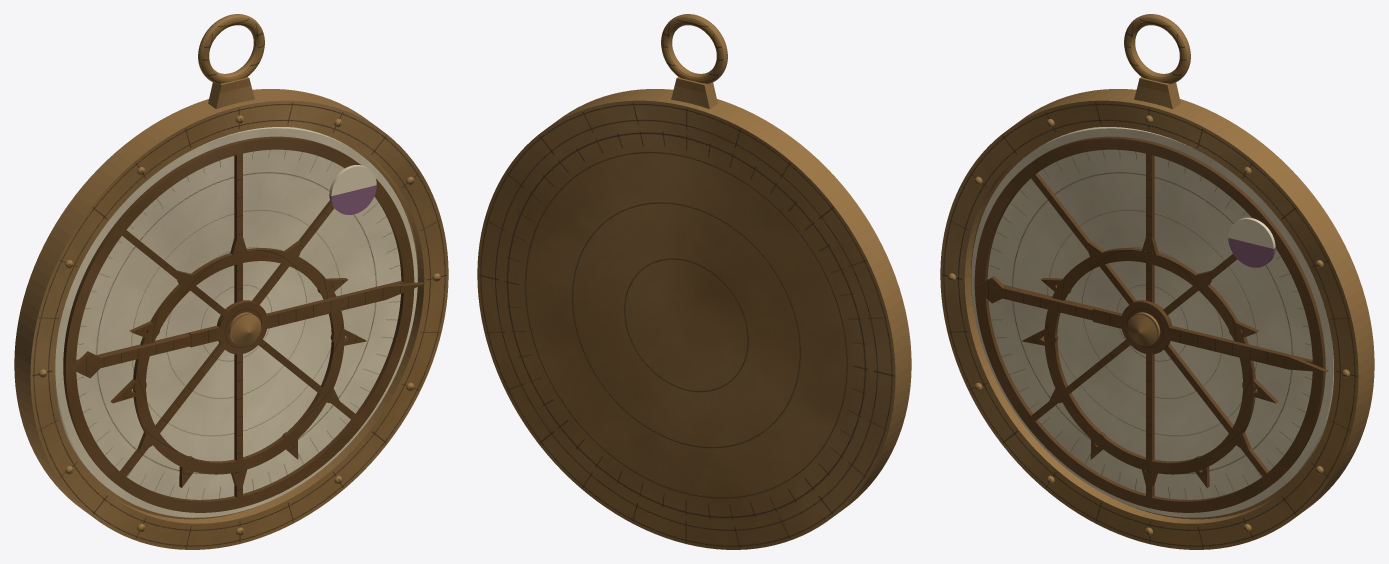
Rendered from astrolabe-main-v1.glb.
3 renders of one model, left to right at view 1: azimuth 30°, elevation 25°; view 2: azimuth 150°, elevation 25°; view 3: azimuth 330°, elevation 25°, orthographic.
Parts seen in each view (by area): view 1: calendar_disc, outer_rim, rete, body, time_pointer, suspension_ring, moon_disc_geom, moon_disc_dark, center_cap_geom; view 2: body, outer_rim, suspension_ring; view 3: calendar_disc, outer_rim, rete, body, time_pointer, suspension_ring, moon_disc_geom, moon_disc_dark, center_cap_geom.
Part boxes in pixels (box(x1,y1,x2,y2)): calendar_disc: box(55, 127, 417, 517); outer_rim: box(24, 96, 448, 549); rete: box(63, 136, 414, 512); body: box(14, 89, 418, 519); time_pointer: box(70, 282, 424, 378); suspension_ring: box(198, 14, 264, 108); moon_disc_geom: box(329, 165, 376, 195); moon_disc_dark: box(329, 185, 376, 214); center_cap_geom: box(228, 312, 261, 346); body: box(477, 93, 905, 549); outer_rim: box(559, 89, 911, 507); suspension_ring: box(661, 14, 727, 108); calendar_disc: box(971, 127, 1333, 517); outer_rim: box(940, 96, 1364, 549); rete: box(974, 136, 1325, 512); body: box(970, 89, 1374, 519); time_pointer: box(975, 276, 1328, 372); suspension_ring: box(1124, 14, 1190, 108); moon_disc_geom: box(1228, 217, 1275, 248); moon_disc_dark: box(1228, 238, 1275, 267); center_cap_geom: box(1127, 312, 1160, 346).
Bounding box in the file's own units: 0.24 × 0.2868 × 0.026.
4 materials, 3 textured.
